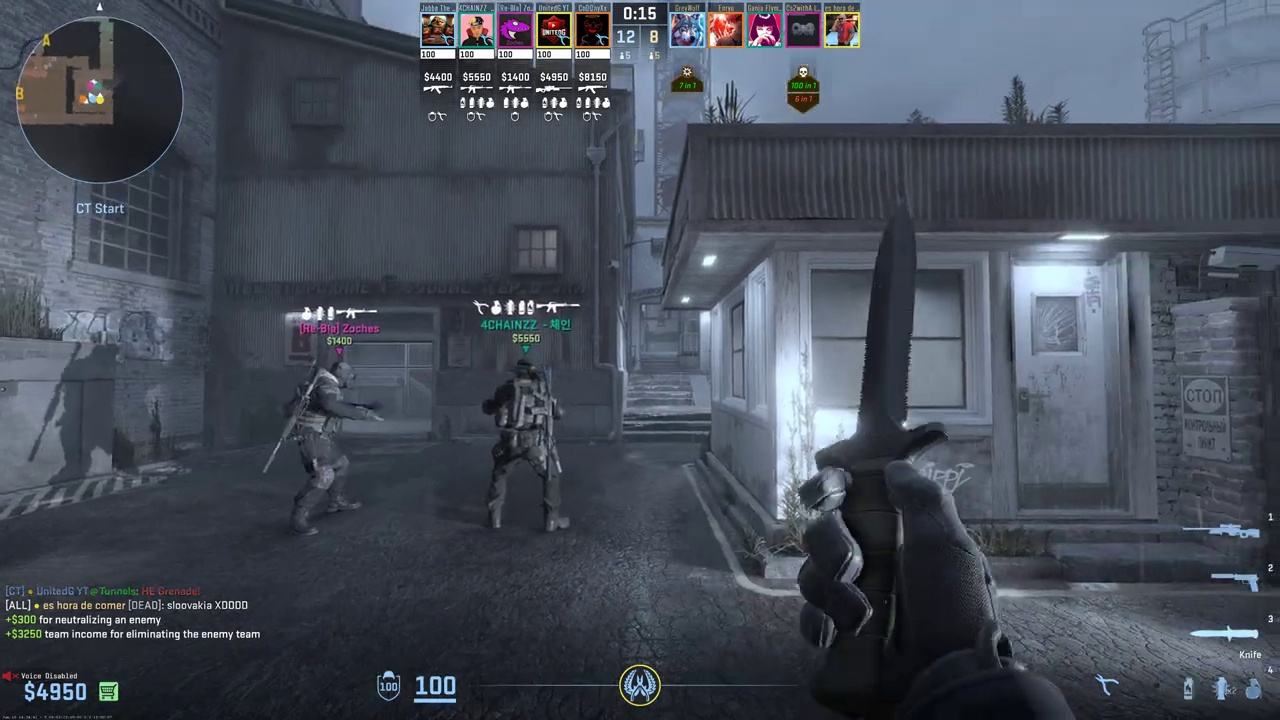CT: (483, 359, 566, 531), (288, 362, 353, 533)
